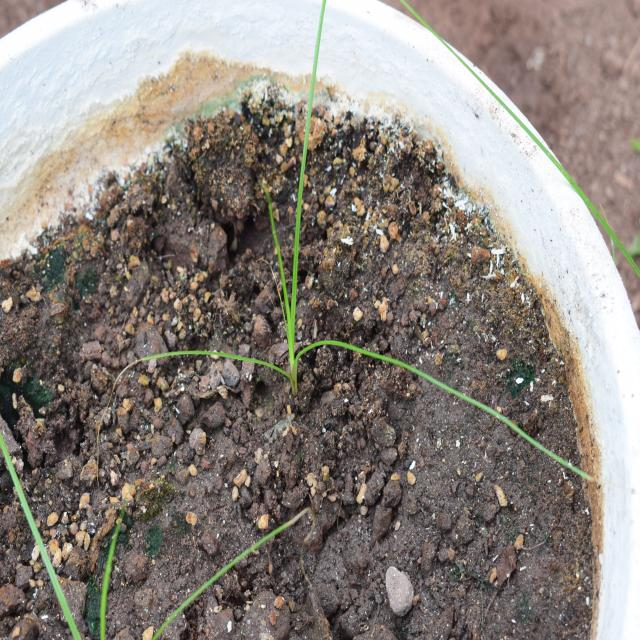sedge: (114, 49, 513, 461)
